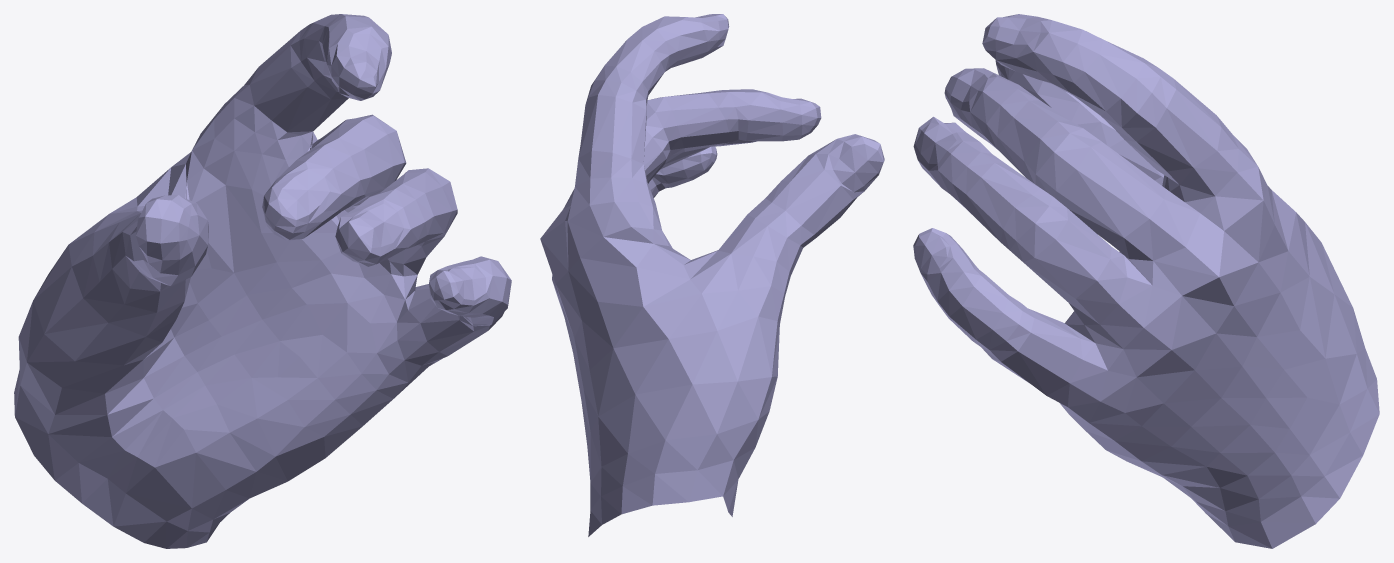
The model's file is hand_0057.glb.
The picture shows the model from 3 angles, left to right: view 1: azimuth 30°, elevation 25°; view 2: azimuth 150°, elevation 25°; view 3: azimuth 270°, elevation 25°; orthographic projection. The views are drawn at different scales.
Visible parts, largest first — view 1: world; view 2: world; view 3: world.
Part boxes in pixels (left/top/right/bottom): world: left=14, top=14, right=511, bottom=548; world: left=540, top=14, right=884, bottom=536; world: left=913, top=14, right=1379, bottom=548.
Bounding box in the file's own units: 0.1003 × 0.1495 × 0.1166.
